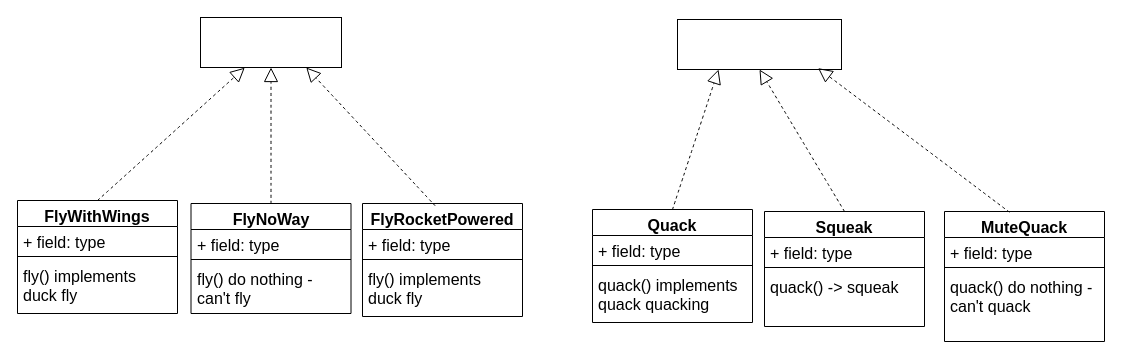
The diagram is 1122 pixels wide and 362 high, and some of its shapes have lost their labels. Here are the shapes that lost their labels. From the top down, the centre of each, then its label:
(x=271, y=42): «interface» FlyBehavior
(x=759, y=44): «interface» QuackBehavior
